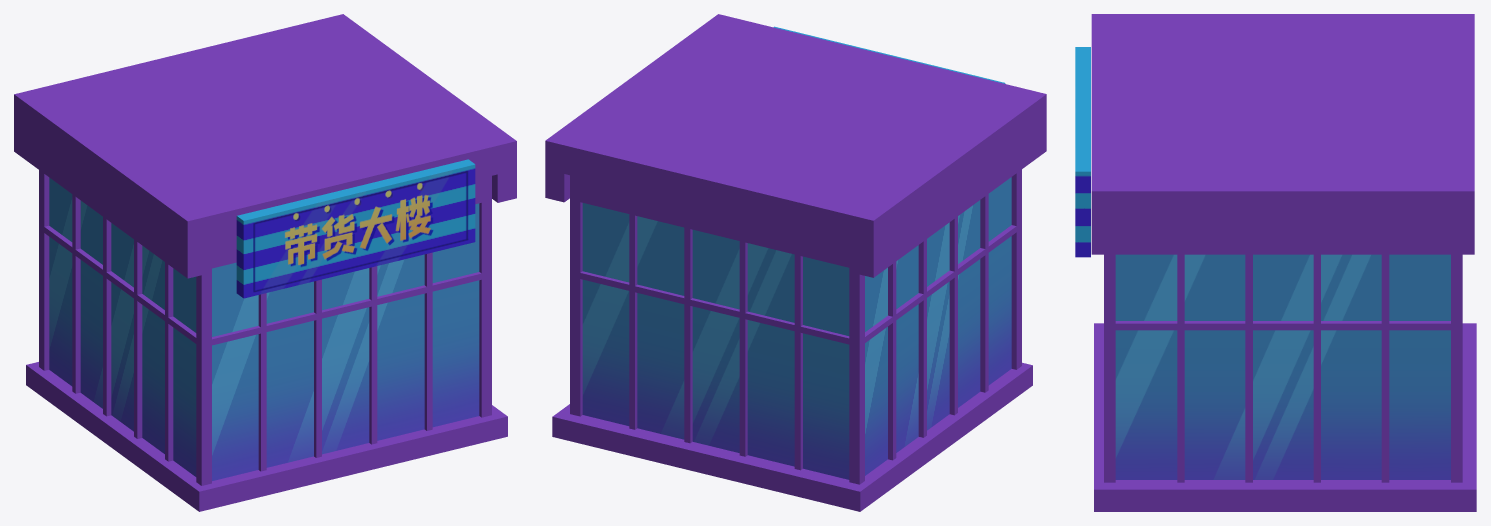
Rendered from ZhuBo1_Mo.fbx.
3 renders of one model, left to right at view 1: azimuth 30°, elevation 25°; view 2: azimuth 150°, elevation 25°; view 3: azimuth 270°, elevation 25°, orthographic. The views are drawn at different scales.
Visible parts, largest first — view 1: Box026; view 2: Box026; view 3: Box026.
Boxes of the visible parts, x1=… form: Box026: x1=14, y1=14, x2=516, y2=511; Box026: x1=545, y1=14, x2=1046, y2=511; Box026: x1=1075, y1=14, x2=1476, y2=511.
Size of the model in its own units: 357 by 305 by 341.
